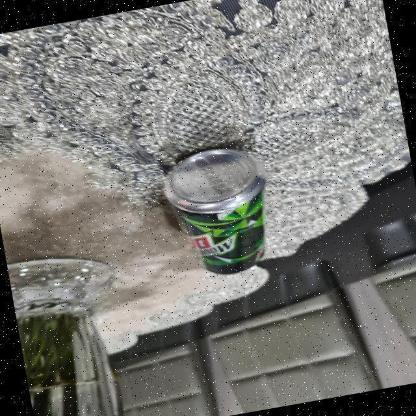Can: (165, 147, 265, 274)
